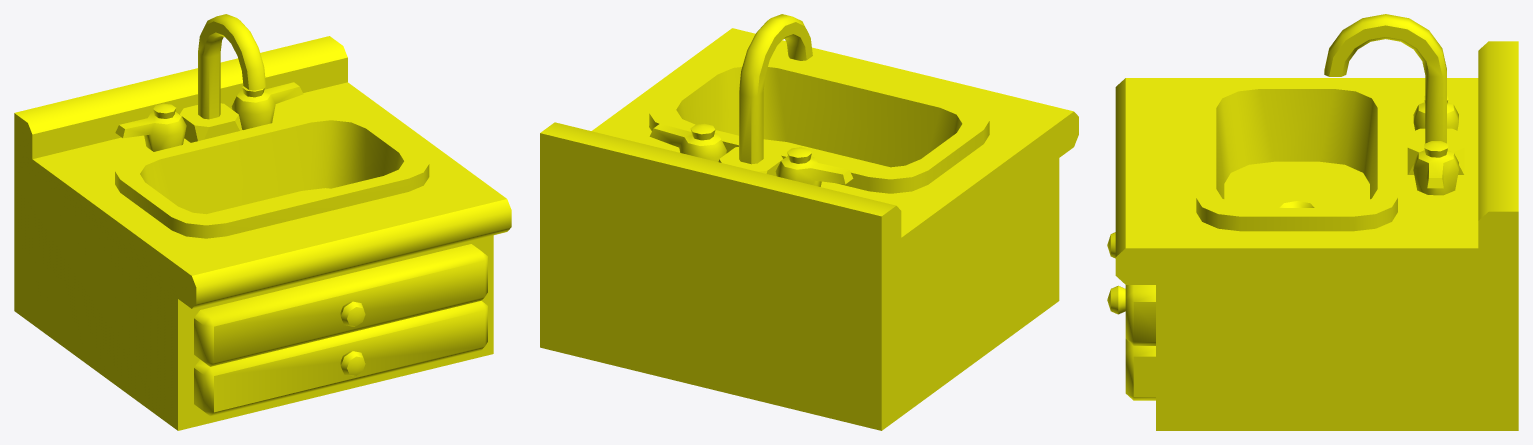
Rendered from kaykit-kitchencounter-sink-backsplash.glb.
The picture shows the model from 3 angles, left to right: view 1: azimuth 30°, elevation 25°; view 2: azimuth 150°, elevation 25°; view 3: azimuth 270°, elevation 25°; orthographic projection. The views are drawn at different scales.
Visible parts, largest first — view 1: kitchencounter_sink_backsplash; view 2: kitchencounter_sink_backsplash; view 3: kitchencounter_sink_backsplash.
Part boxes in pixels (box(x1,y1,x2,y2)): kitchencounter_sink_backsplash: box(14, 14, 511, 430); kitchencounter_sink_backsplash: box(540, 14, 1078, 430); kitchencounter_sink_backsplash: box(1107, 14, 1518, 430).
Bounding box in the file's own units: 2 × 1.8 × 2.04.
